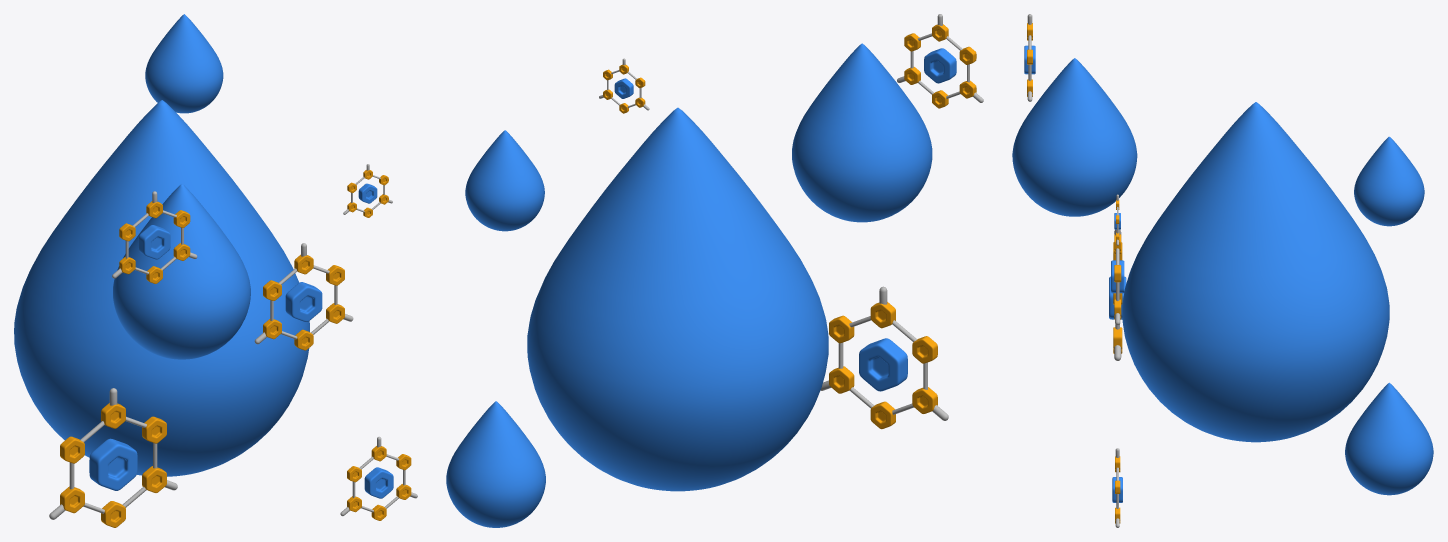
3 views of the same model, side by side, from view 1: azimuth 30°, elevation 25°; view 2: azimuth 150°, elevation 25°; view 3: azimuth 270°, elevation 25° (orthographic). The views are drawn at different scales.
Parts seen in each view (by area): view 1: Sphere.012, Sphere.013, Sphere.014, Cylinder.300, Cylinder.302, Cylinder.292, Cylinder.294, Cylinder.324, Cylinder.326, Cylinder.301, Cylinder.308, Cylinder.310 (+3 smaller); view 2: Sphere.012, Sphere.013, Sphere.015, Sphere.014, Cylinder.300, Cylinder.302, Cylinder.324, Cylinder.326, Cylinder.301; view 3: Sphere.012, Sphere.013, Sphere.015, Sphere.014.
Part boxes in pixels (<box>): Sphere.012: <box>14,100,309,476</box>; Sphere.013: <box>113,184,250,359</box>; Sphere.014: <box>145,14,223,113</box>; Cylinder.300: <box>60,416,166,513</box>; Cylinder.302: <box>89,438,137,490</box>; Cylinder.292: <box>263,265,344,339</box>; Cylinder.294: <box>285,282,322,321</box>; Cylinder.324: <box>119,210,190,274</box>; Cylinder.326: <box>138,225,170,259</box>; Cylinder.301: <box>69,416,157,513</box>; Cylinder.308: <box>347,454,411,512</box>; Cylinder.310: <box>364,467,393,498</box>; Sphere.012: <box>527,107,828,491</box>; Sphere.013: <box>792,43,932,222</box>; Sphere.015: <box>446,401,545,527</box>; Sphere.014: <box>465,130,544,231</box>; Cylinder.300: <box>829,315,937,413</box>; Cylinder.302: <box>859,338,907,391</box>; Cylinder.324: <box>904,33,976,98</box>; Cylinder.326: <box>924,48,956,83</box>; Cylinder.301: <box>838,316,927,414</box>; Sphere.012: <box>1122,102,1389,442</box>; Sphere.013: <box>1012,58,1137,216</box>; Sphere.015: <box>1345,382,1433,495</box>; Sphere.014: <box>1354,136,1424,226</box>.
Bounding box in the file's own units: 5.03 × 5.63 × 5.52.
